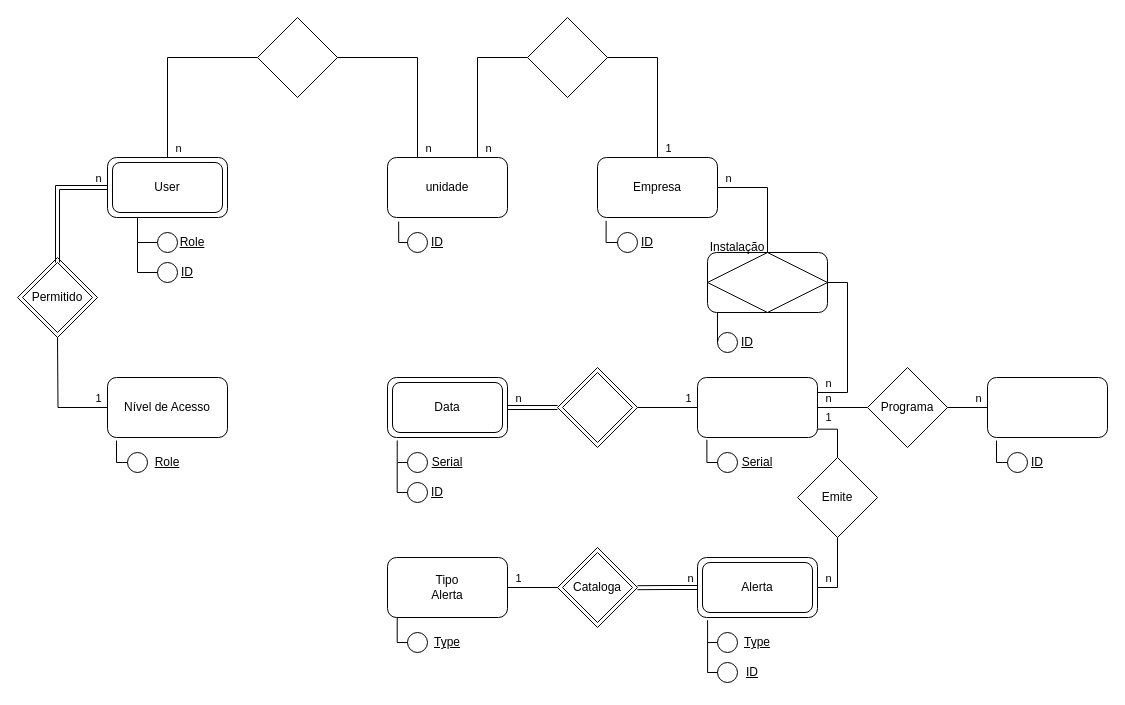
Some shapes in this 1125 by 705 pixel diagram are drawn without their labels. Here are the shapes that lost their labels. From the top down, the box of each, then its label:
(256, 16, 338, 98): Trabalha
(526, 16, 608, 98): Pertence
(706, 252, 828, 312): Compra
(562, 372, 632, 442): Envia
(696, 376, 818, 438): Device
(986, 376, 1108, 438): Run
